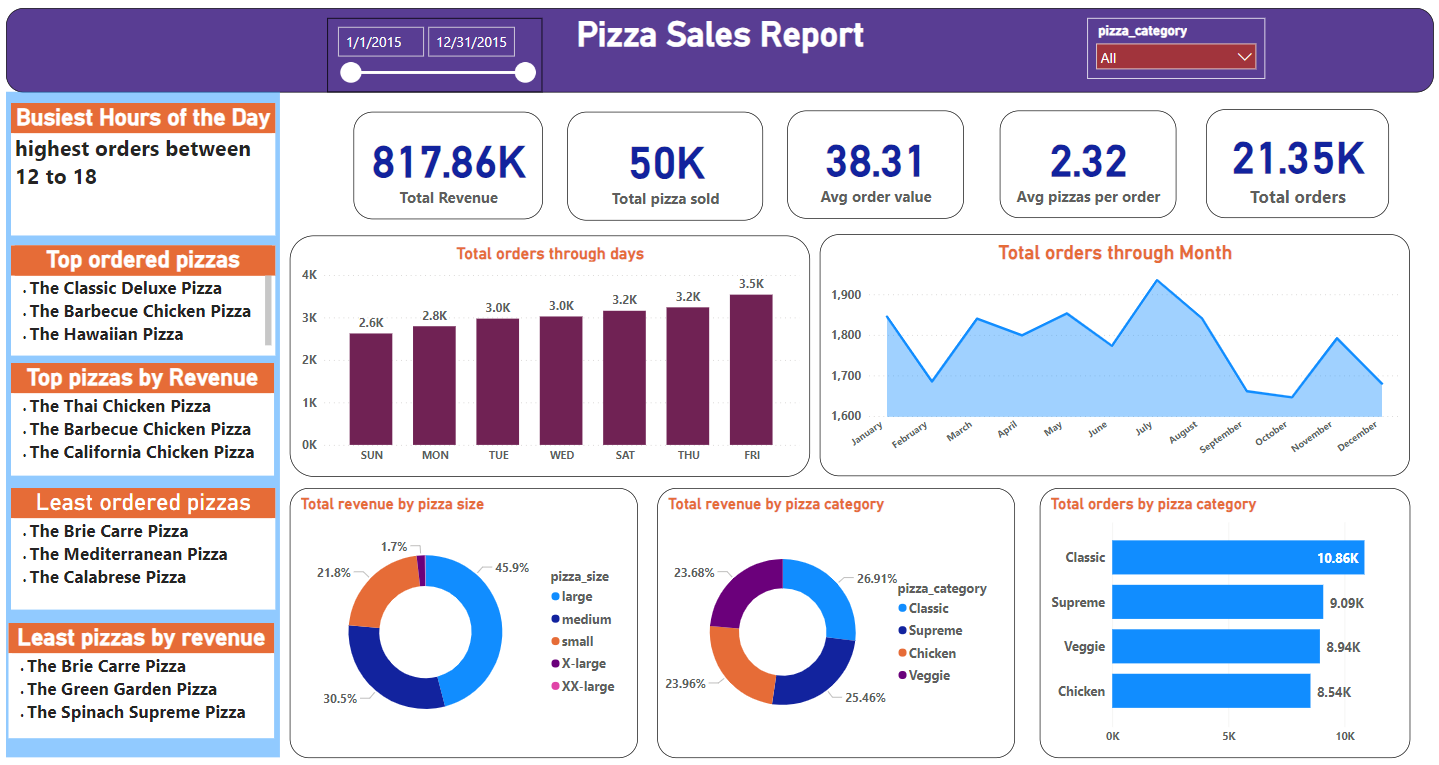

The page's visual inventory and layout, read from the dashboard file:
{"tool":"powerbi","page":{"name":"Page 1","canvas":[1785,941],"ordinal":0},"visuals":[{"type":"card","fields":{"Values":["pizza_sales.total_pizza_sold"]},"box":[702,129.7,244.8,136.2],"z":0},{"type":"card","fields":{"Values":["pizza_sales.avg_order_value"]},"box":[977.3,128.7,220.7,135.6],"z":1000},{"type":"card","fields":{"Values":["pizza_sales.avg_pizzas_per_order"]},"box":[1241.9,128.1,220.5,134.6],"z":2000},{"type":"card","fields":{"Values":["pizza_sales.total_orders"]},"box":[1499.7,126.5,228.6,136.2],"z":3000},{"type":"card","fields":{"Values":["pizza_sales.total_revenue"]},"box":[434.5,129.7,236.7,134.6],"z":4000},{"type":"columnChart","title":"Total orders through days","fields":{"Category":["pizza_sales.order_day"],"Y":["pizza_sales.total_orders"]},"box":[354.1,283.7,650.1,301.6],"z":5000},{"type":"stackedAreaChart","title":"Total orders through Month","fields":{"Category":["pizza_sales.Month Name"],"Y":["pizza_sales.total_orders"]},"box":[1017.7,283.2,737.7,302.6],"z":6000},{"type":"textbox","title":"Pizza Sales Report","box":[0,0,1785,105.4],"z":7000},{"type":"donutChart","title":"Total revenue by pizza size","fields":{"Category":["pizza_sales.pizza_size"],"Y":["pizza_sales.total_revenue"]},"box":[354.1,600,435,337.3],"z":8000},{"type":"donutChart","title":"Total revenue by pizza category","fields":{"Y":["pizza_sales.total_revenue"],"Category":["pizza_sales.pizza_category"]},"box":[813.9,599.9,447.5,337.2],"z":9000},{"type":"barChart","title":"Total orders by pizza category","fields":{"Category":["pizza_sales.pizza_category"],"Y":["pizza_sales.total_orders"]},"box":[1292,600,463.4,337.3],"z":10000},{"type":"slicer","fields":{"Values":["pizza_sales.pizza_category"]},"box":[1352.1,13,222.1,76.2],"z":11000},{"type":"slicer","fields":{"Values":["pizza_sales.order_date"]},"box":[402.1,13,269.1,92.4],"z":12000},{"type":"textbox","box":[0,105.4,342.1,831.7],"z":12001},{"type":"textbox","title":"Busiest Hours of the Day","box":[6.5,118.4,330.7,165.4],"z":12002},{"type":"textbox","title":"Top ordered pizzas ","box":[6.5,296.7,330.7,137.8],"z":12003},{"type":"textbox","title":"Least ordered pizzas","box":[6.5,599.9,330.7,152.4],"z":12004},{"type":"textbox","title":"Top pizzas by Revenue","box":[6.5,444.2,329.1,141],"z":12005},{"type":"textbox","title":"Least pizzas by revenue","box":[3.2,768.5,332.4,144.3],"z":12006}]}

Visuals, with their boxes in screenshot pixels (x1, y1, x2, y2), scaled from the page's 1785x941 canvas onto the 1439x765 screenshot:
card - pizza_sales.total_pizza_sold: [left=566, top=105, right=763, bottom=216]
card - pizza_sales.avg_order_value: [left=788, top=105, right=966, bottom=215]
card - pizza_sales.avg_pizzas_per_order: [left=1001, top=104, right=1179, bottom=214]
card - pizza_sales.total_orders: [left=1209, top=103, right=1393, bottom=214]
card - pizza_sales.total_revenue: [left=350, top=105, right=541, bottom=215]
"Total orders through days" columnChart: [left=285, top=231, right=810, bottom=476]
"Total orders through Month" stackedAreaChart: [left=820, top=230, right=1415, bottom=476]
"Pizza Sales Report" textbox: [left=0, top=0, right=1438, bottom=86]
"Total revenue by pizza size" donutChart: [left=285, top=488, right=636, bottom=762]
"Total revenue by pizza category" donutChart: [left=656, top=488, right=1017, bottom=762]
"Total orders by pizza category" barChart: [left=1042, top=488, right=1415, bottom=762]
slicer - pizza_sales.pizza_category: [left=1090, top=11, right=1269, bottom=73]
slicer - pizza_sales.order_date: [left=324, top=11, right=541, bottom=86]
textbox: [left=0, top=86, right=276, bottom=762]
"Busiest Hours of the Day" textbox: [left=5, top=96, right=272, bottom=231]
"Top ordered pizzas " textbox: [left=5, top=241, right=272, bottom=353]
"Least ordered pizzas" textbox: [left=5, top=488, right=272, bottom=612]
"Top pizzas by Revenue" textbox: [left=5, top=361, right=271, bottom=476]
"Least pizzas by revenue" textbox: [left=3, top=625, right=271, bottom=742]
